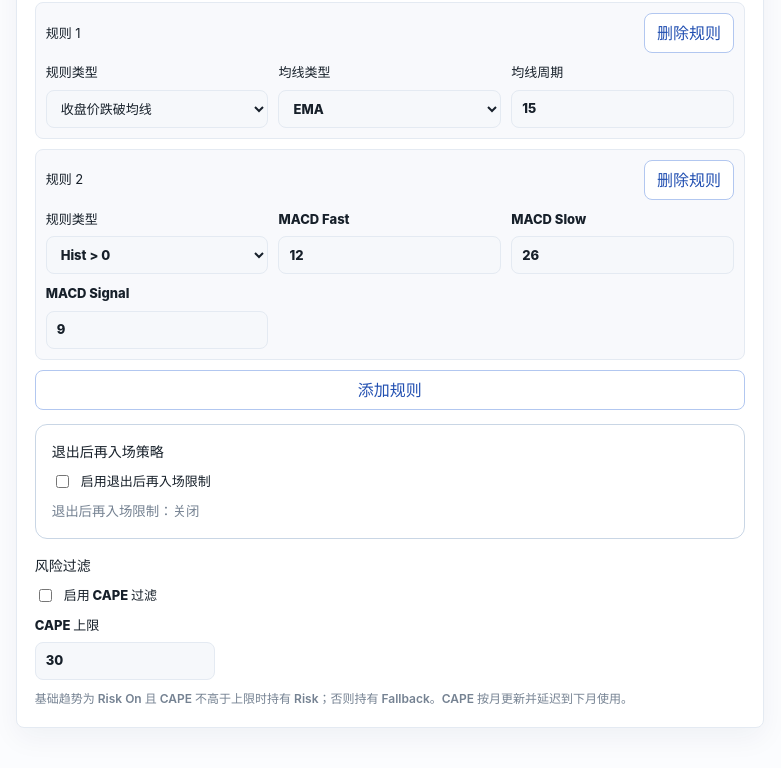
Test: BacktestLabPage › makes the five-day retained-signal setting discoverable in Chinese
The image size is (781, 768).
(page scrolled)
Click the checkbox labelled "启用退出后再入场限制" at (62, 482), box [56, 475, 69, 488]
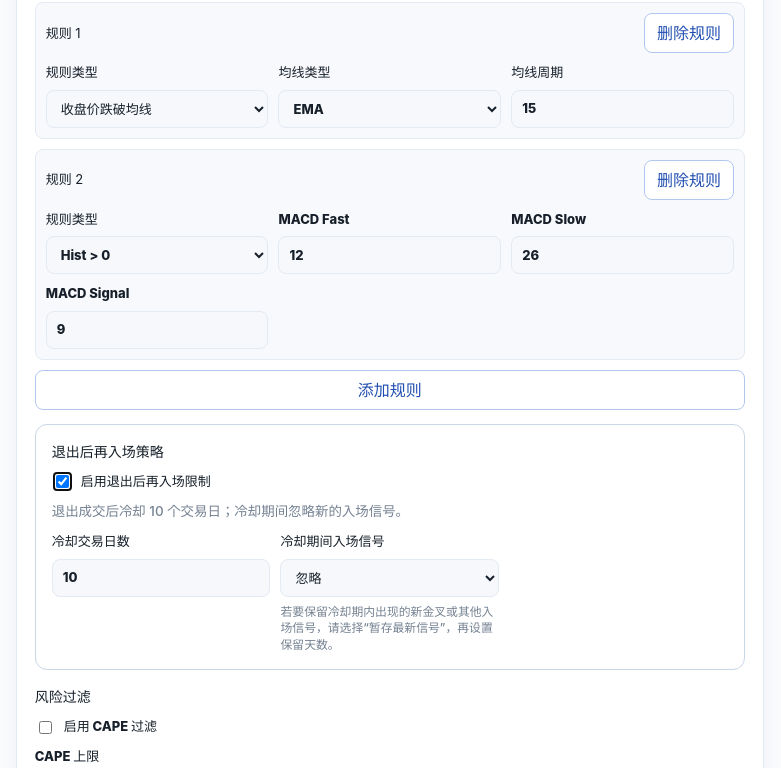
Now the text "若要保留冷却期内出现的新金叉或其他入场信号，请选择“暂存最新信号”，再设置保留天数。" is shown, box [280, 604, 499, 653]
Select "暂存最新信号" in the dropdown labelled "冷却期间入场信号" at (390, 578), box [280, 559, 499, 597]
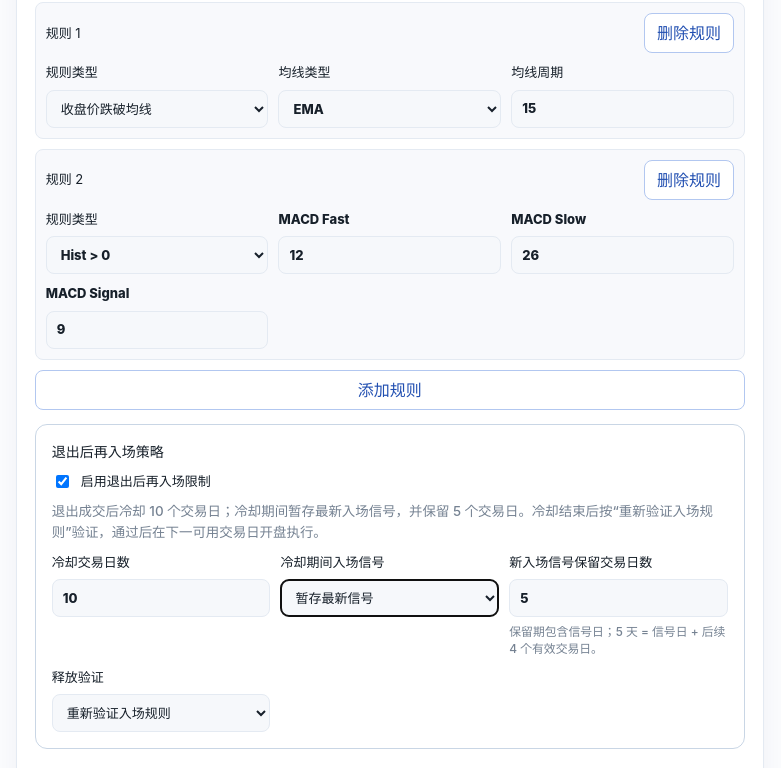
Now the field labelled "新入场信号保留交易日数" holds "5", box [509, 580, 728, 618]
Now the text "保留期包含信号日；5 天 = 信号日 + 后续 4 个有效交易日。" is shown, box [509, 624, 728, 658]
Now the text "冷却期间暂存最新入场信号，并保留 5 个交易日" is shown, box [52, 503, 713, 540]
